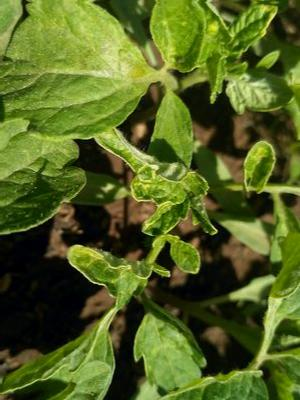Tomato leaf mosaic virus: (8, 7, 150, 138), (93, 127, 216, 236), (130, 289, 203, 396), (53, 237, 171, 295), (131, 90, 202, 184), (143, 4, 207, 74), (224, 64, 292, 115), (216, 0, 276, 55), (233, 133, 283, 194)
